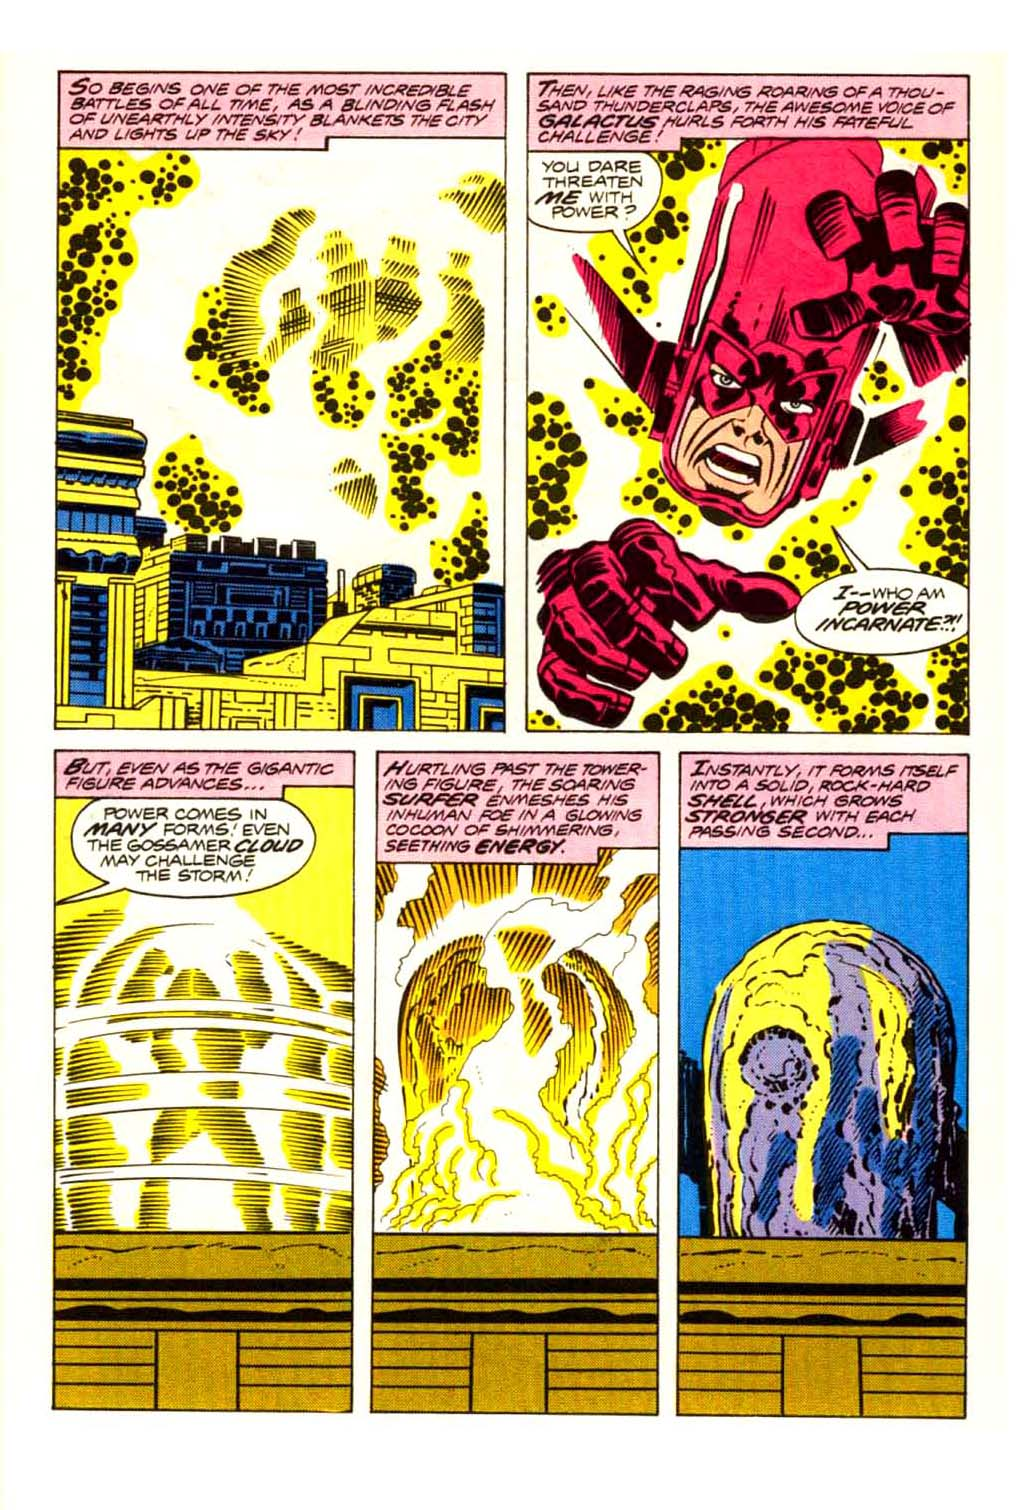Baloon: (55, 71, 507, 150), (533, 75, 969, 152), (374, 754, 657, 858), (683, 759, 967, 850), (75, 797, 315, 897), (792, 572, 971, 652), (50, 754, 353, 799), (529, 150, 662, 248)
Vignetta: (53, 71, 507, 732), (525, 71, 969, 738), (53, 748, 357, 1415), (678, 750, 965, 1419), (376, 752, 661, 1415)
